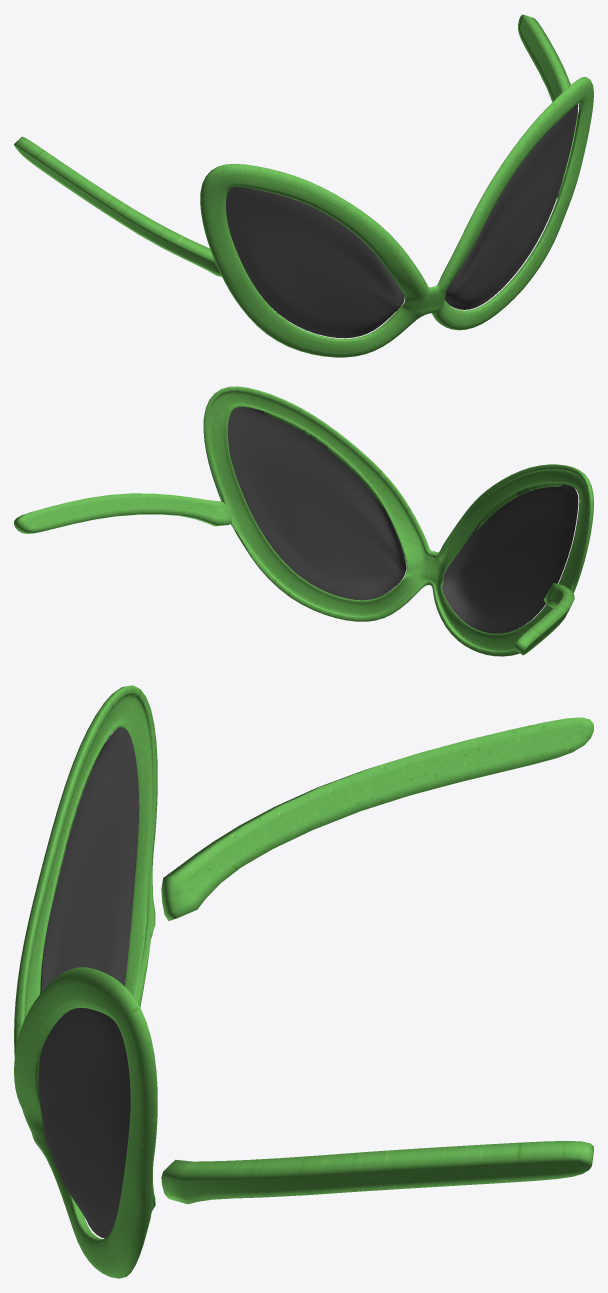
Rendered from Alien_Shades.glb.
The picture shows the model from 3 angles, top to bottom: view 1: azimuth 30°, elevation 25°; view 2: azimuth 150°, elevation 25°; view 3: azimuth 270°, elevation 25°; orthographic projection. The views are drawn at different scales.
Parts seen in each view (by area): view 1: Alien_Shades; view 2: Alien_Shades; view 3: Alien_Shades.
Part boxes in pixels (x1,y1,x2,y2): Alien_Shades: (14, 14, 593, 357); Alien_Shades: (14, 386, 593, 656); Alien_Shades: (14, 685, 593, 1278).
Size of the model in its own units: 1.05 by 0.417 by 0.589.
1 material, 1 textured.
